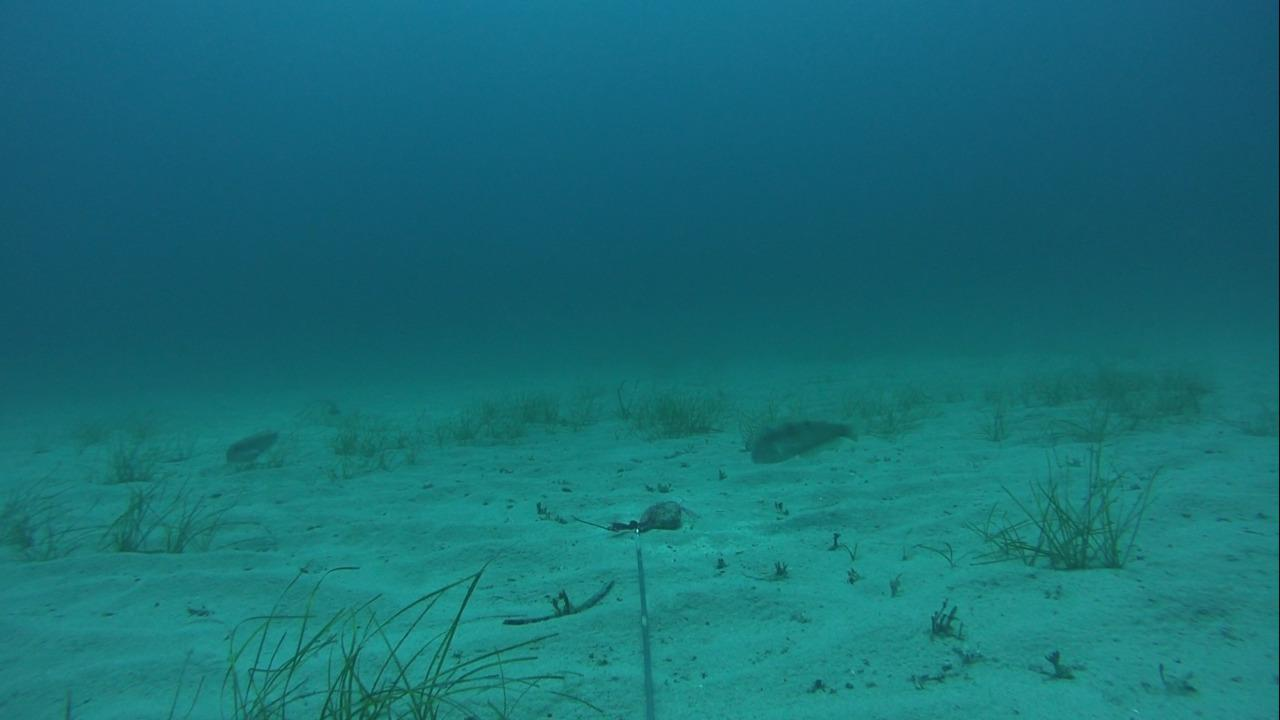raor: (745, 415, 855, 467), (217, 421, 284, 463)
